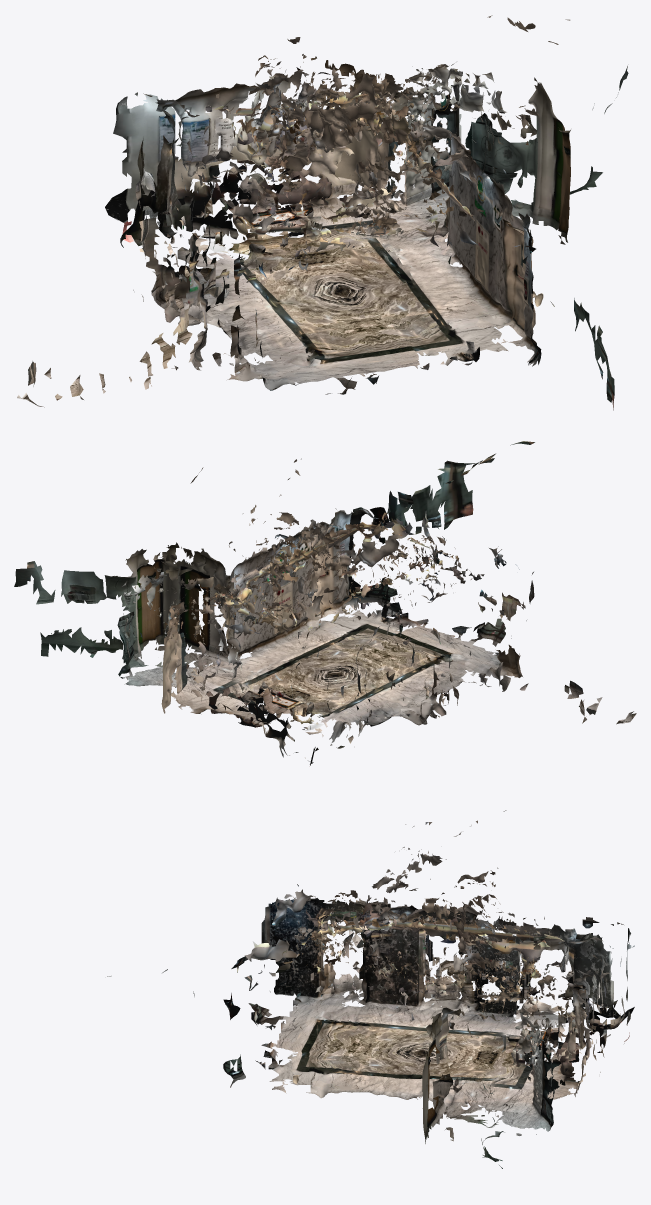
The model's file is 147567-tower10kordik-tex.glb.
The picture shows the model from 3 angles, top to bottom: view 1: azimuth 30°, elevation 25°; view 2: azimuth 150°, elevation 25°; view 3: azimuth 270°, elevation 25°; orthographic projection. The views are drawn at different scales.
Parts seen in each view (by area): view 1: Node; view 2: Node; view 3: Node.
Part boxes in pixels (x1,y1,x2,y2): Node: (17,15,628,410); Node: (14,441,636,765); Node: (107,810,634,1168).
Size of the model in its own units: 16.06 by 5.72 by 15.48.
33 materials, 33 textured.
